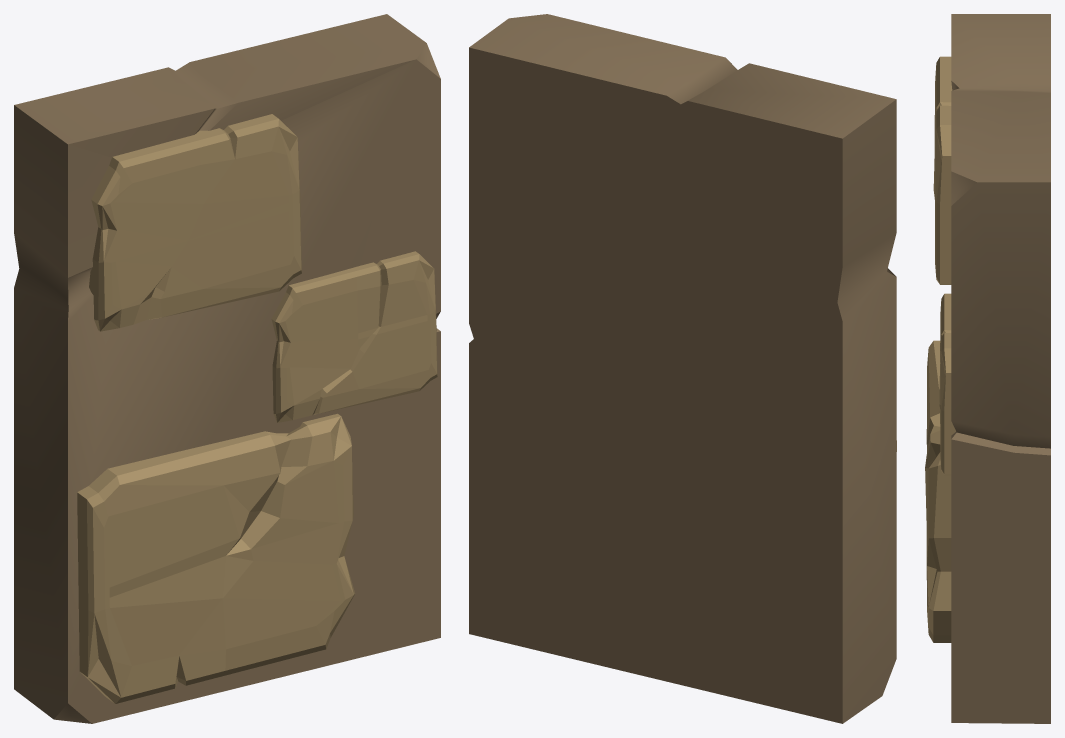
The model's file is Pared-3.FBX.
3 views of the same model, side by side, from view 1: azimuth 30°, elevation 25°; view 2: azimuth 150°, elevation 25°; view 3: azimuth 270°, elevation 25° (orthographic). The views are drawn at different scales.
Parts seen in each view (by area): view 1: Pared-3; view 2: Pared-3; view 3: Pared-3.
Part boxes in pixels (left/top/right/bottom): Pared-3: left=14, top=14, right=440, bottom=723; Pared-3: left=469, top=14, right=896, bottom=723; Pared-3: left=925, top=14, right=1050, bottom=723.
Bounding box in the file's own units: 200 × 300 × 63.17.
1 material, 1 textured.
